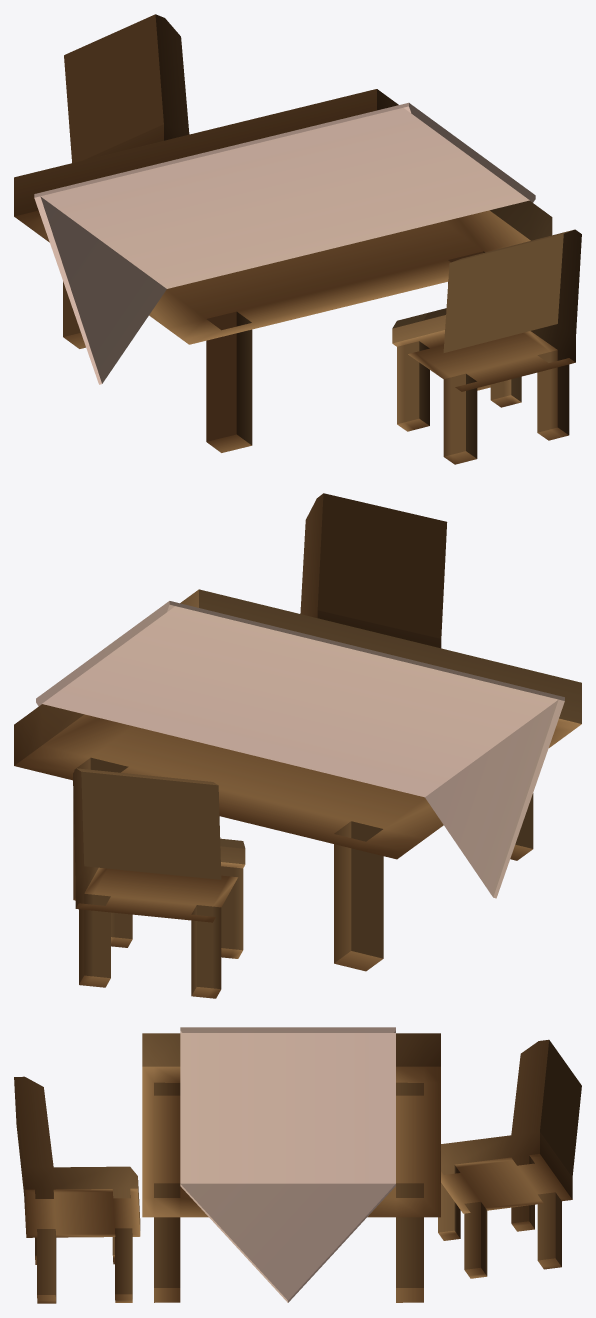
The model's file is meja_makan.glb.
3 views of the same model, one above another, from view 1: azimuth 30°, elevation 25°; view 2: azimuth 150°, elevation 25°; view 3: azimuth 270°, elevation 25° (orthographic). The views are drawn at different scales.
Visible parts, largest first — view 1: Plane011; view 2: Plane011; view 3: Plane011.
Part boxes in pixels (left/top/right/bottom): Plane011: left=14, top=14, right=581, bottom=464; Plane011: left=14, top=493, right=581, bottom=998; Plane011: left=14, top=1027, right=581, bottom=1303.
Size of the model in its own units: 0.9741 by 0.522 by 1.5.
Materials: 1 (1 with a texture image).
